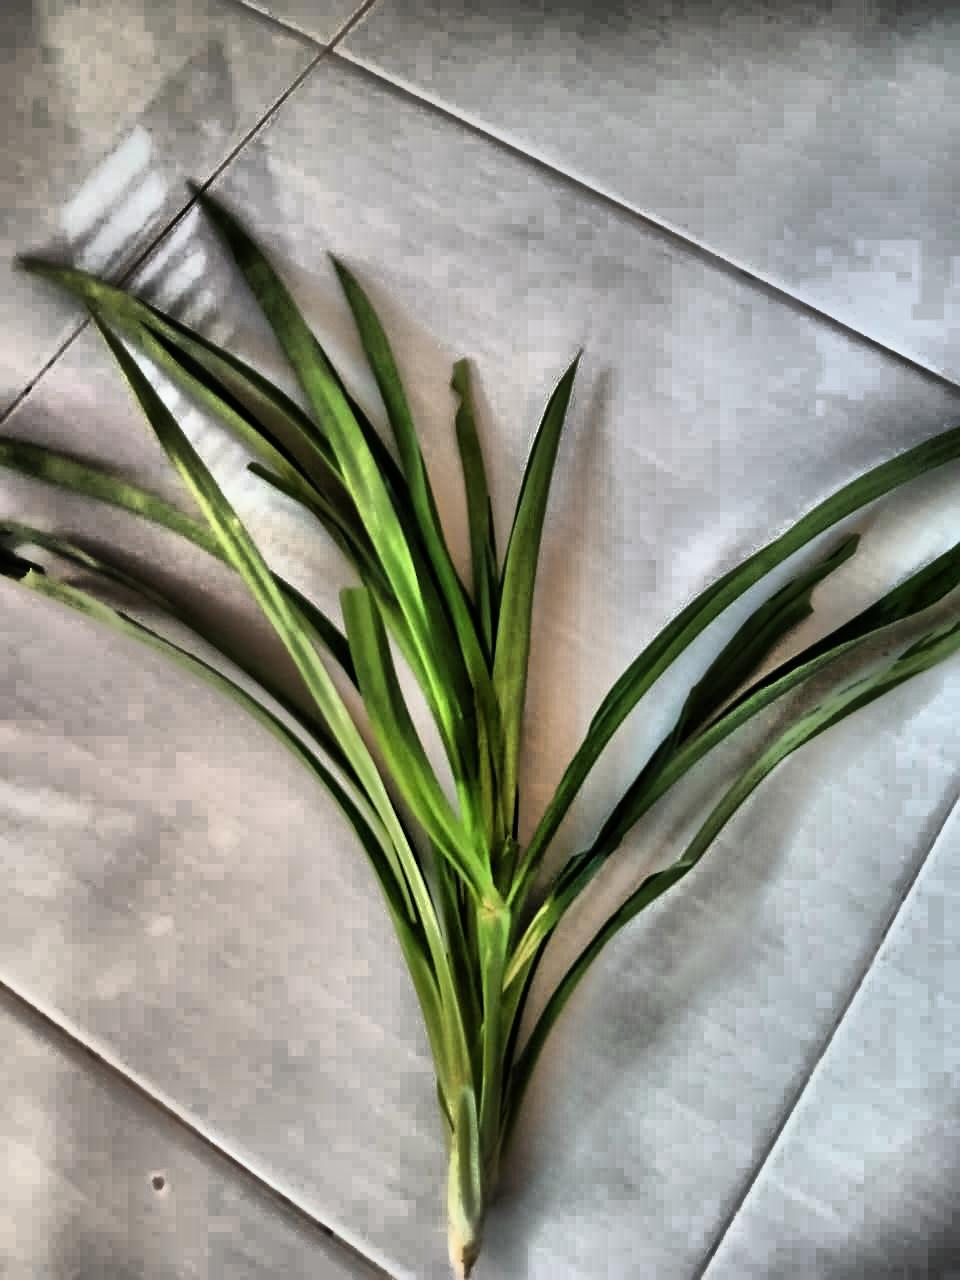daun pandan: (0, 194, 959, 1274)
